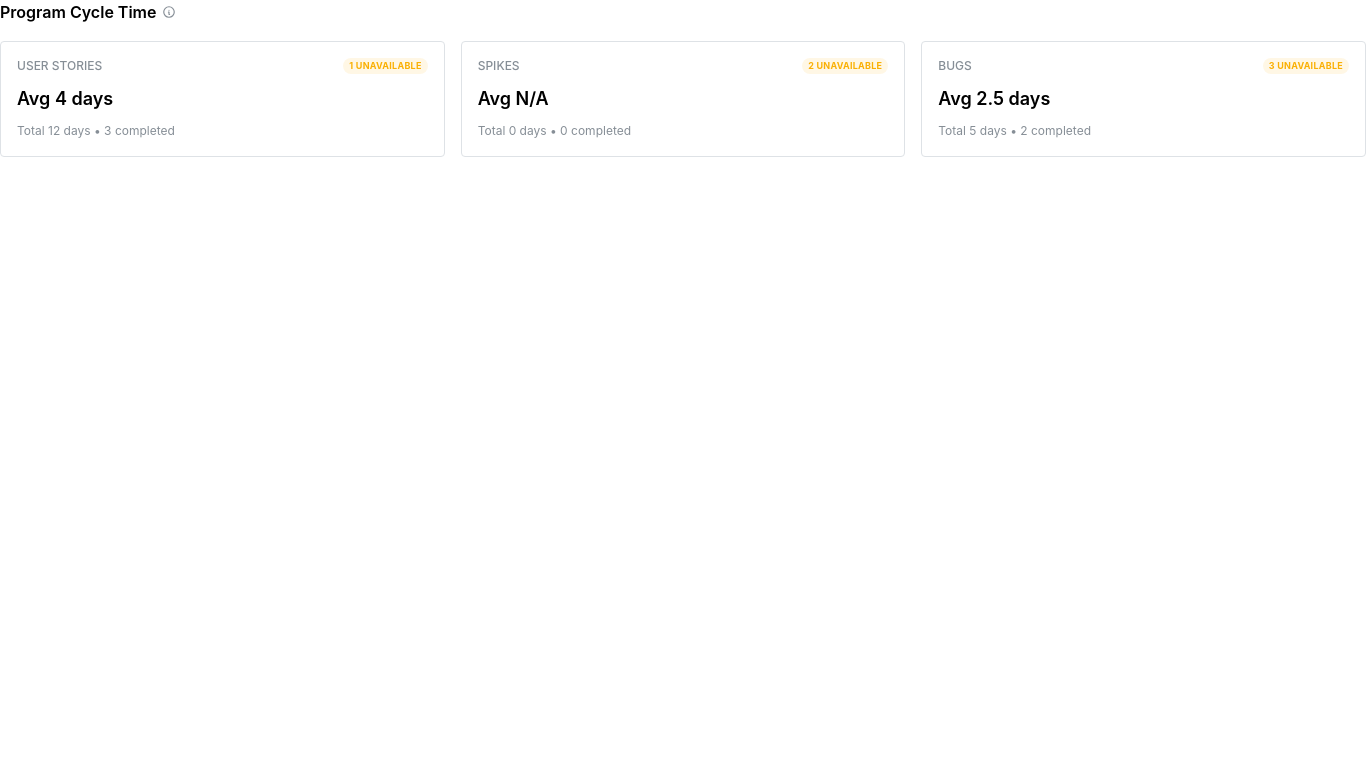
Scenario: CycleTimeBreakdown › renders an error state and retries the drilldown request
This screenshot has width=1366, height=768.
Click the button with aria-label "Open unavailable User Stories cycle-time items". click: [386, 66]
box: x1=343 y1=58 x2=428 y2=74
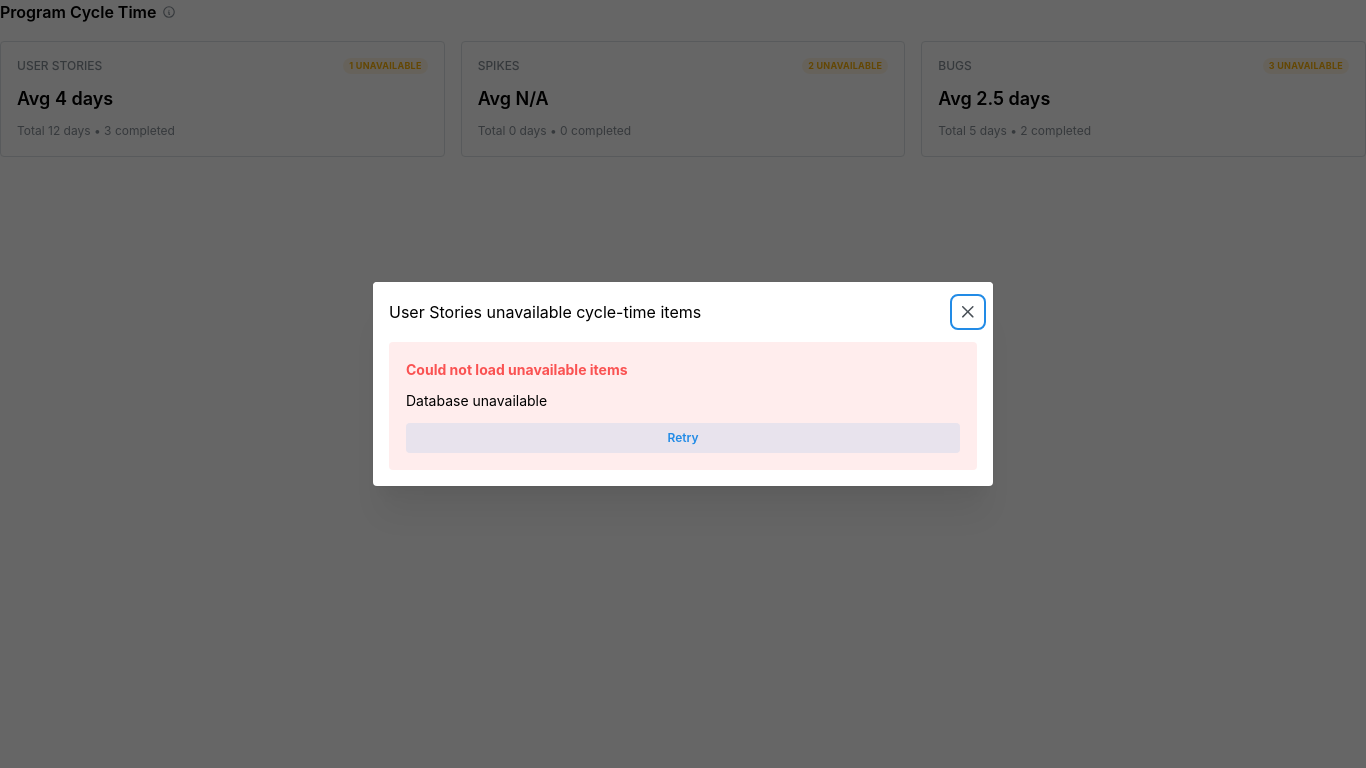
Result: the text "Database unavailable" is shown at x1=406 y1=392 x2=547 y2=409
Click the button "Retry". click: [683, 438]
box: x1=406 y1=423 x2=960 y2=453
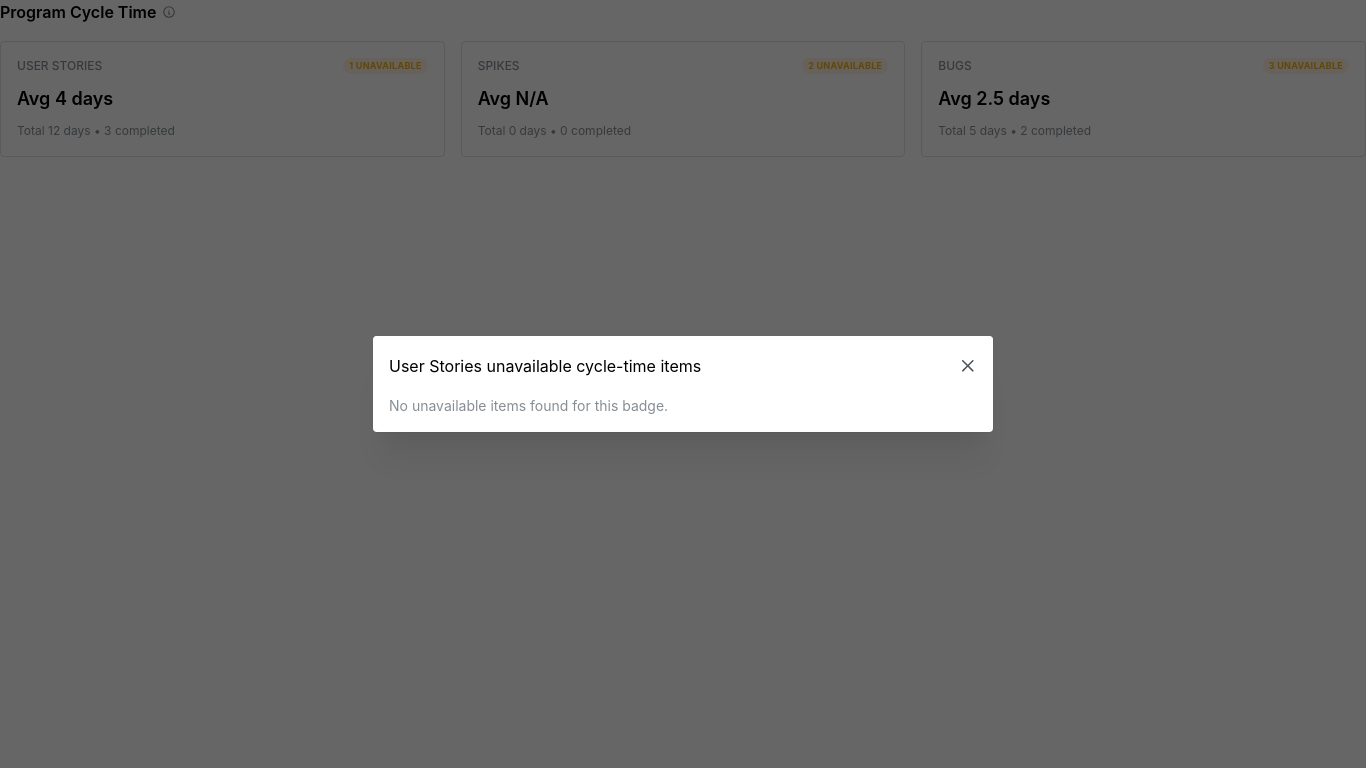
Result: the text "No unavailable items found for this badge." is shown at x1=389 y1=397 x2=668 y2=414
